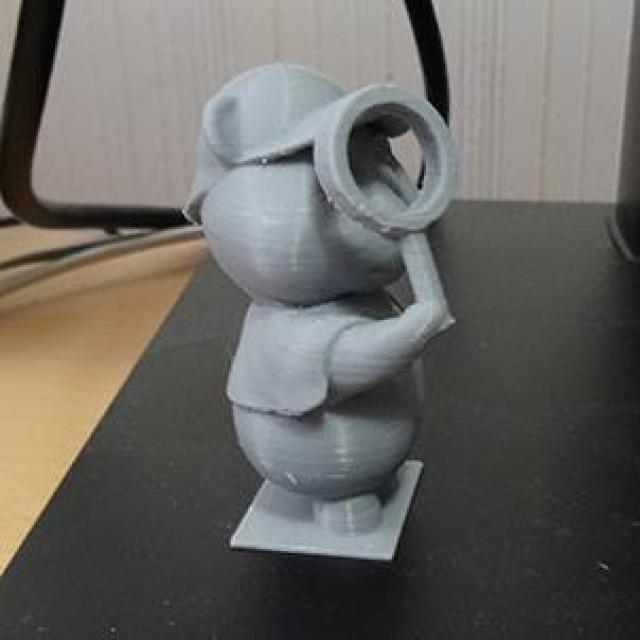Without deffect: (175, 44, 474, 582)
